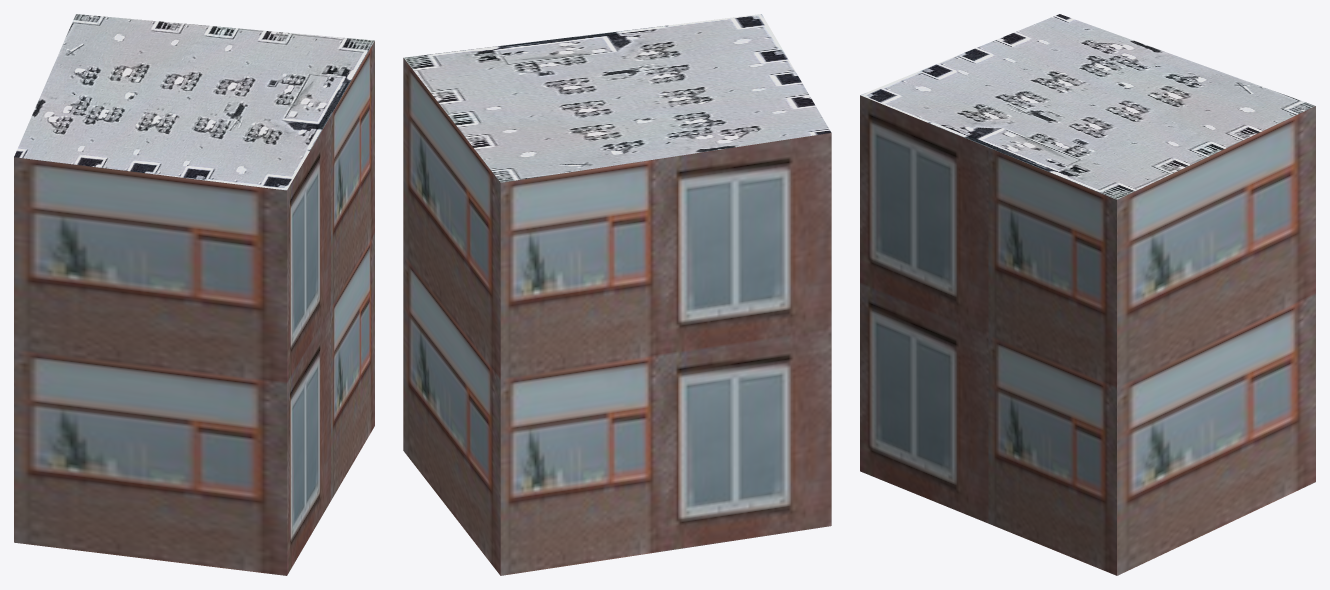
The model's file is ResTex__3011.fbx.
The picture shows the model from 3 angles, left to right: view 1: azimuth 30°, elevation 25°; view 2: azimuth 150°, elevation 25°; view 3: azimuth 270°, elevation 25°; orthographic projection. The views are drawn at different scales.
Visible parts, largest first — view 1: CityEngineMaterial_19_m, CityEngineMaterial_4_m; view 2: CityEngineMaterial_19_m, CityEngineMaterial_4_m; view 3: CityEngineMaterial_19_m, CityEngineMaterial_4_m.
Part boxes in pixels (x1,y1,x2,y2): CityEngineMaterial_19_m: [14, 41, 374, 575]; CityEngineMaterial_4_m: [14, 14, 374, 190]; CityEngineMaterial_19_m: [403, 58, 831, 575]; CityEngineMaterial_4_m: [404, 14, 831, 182]; CityEngineMaterial_19_m: [860, 95, 1315, 575]; CityEngineMaterial_4_m: [860, 14, 1315, 199].
Size of the model in its own units: 6.36 by 6 by 6.59.
2 materials, 2 textured.
